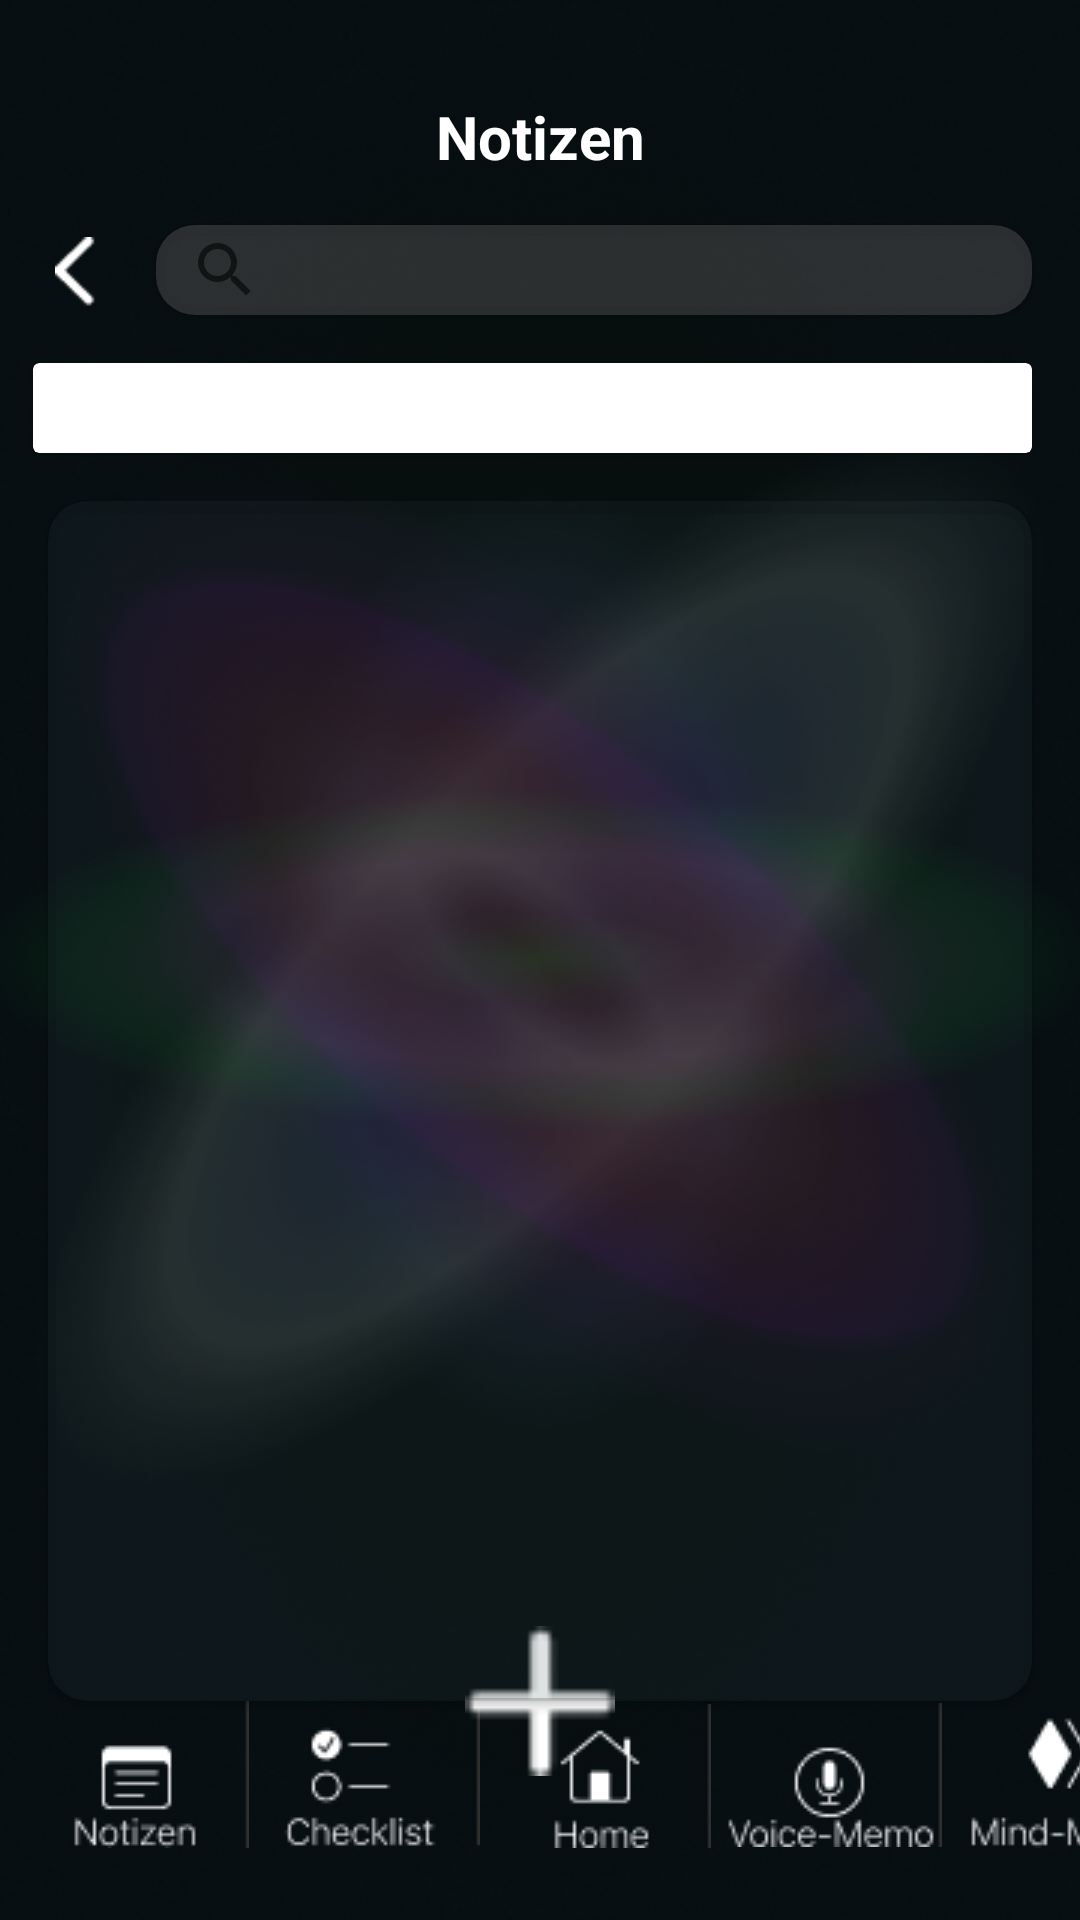

Icons on this 1080*1920 Android screen, each with the point to tap as (x,y):
backbutton: (75,271)
